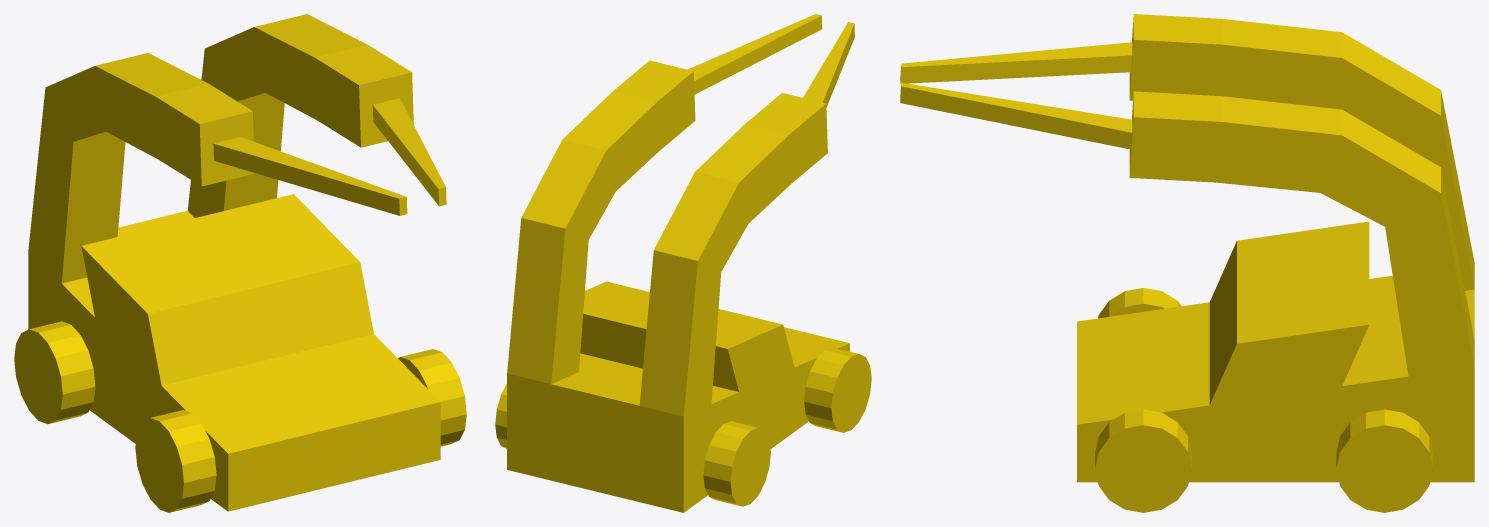
The model's file is _epair car.fbx.
3 renders of one model, left to right at view 1: azimuth 30°, elevation 25°; view 2: azimuth 150°, elevation 25°; view 3: azimuth 270°, elevation 25°, orthographic. The views are drawn at different scales.
Parts seen in each view (by area): view 1: Cube; view 2: Cube; view 3: Cube.
Part boxes in pixels (x1,y1,x2,y2): Cube: (14, 14, 466, 512); Cube: (495, 14, 871, 512); Cube: (900, 14, 1474, 512).
Bounding box in the file's own units: 164 × 210 × 289.
